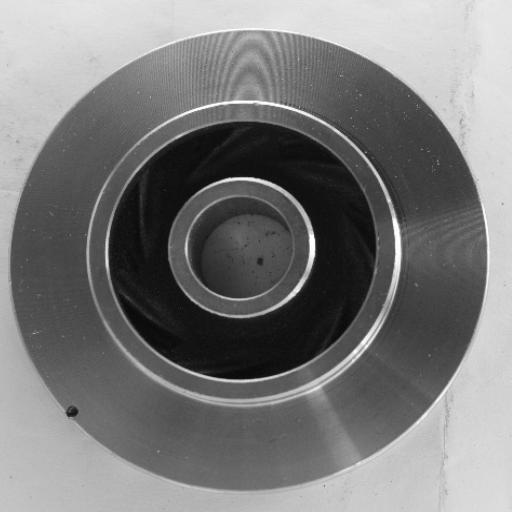pit: (62, 395, 88, 425)
unpolished_casting: (10, 27, 489, 490)
